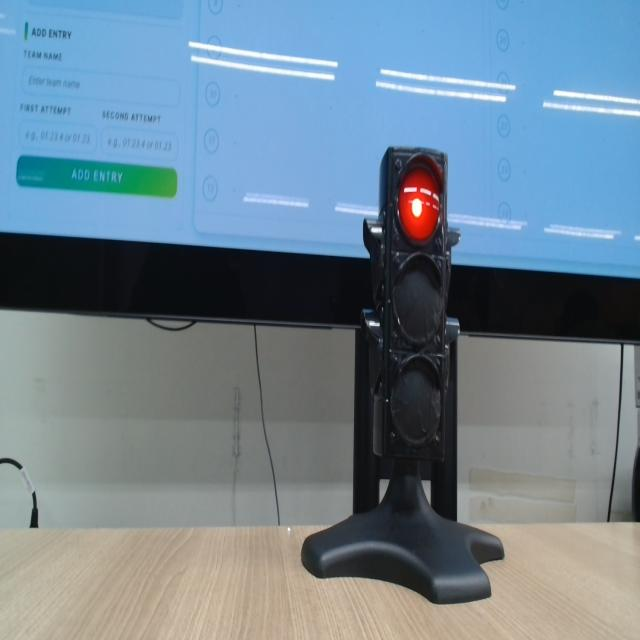red_light: (399, 168, 439, 242)
